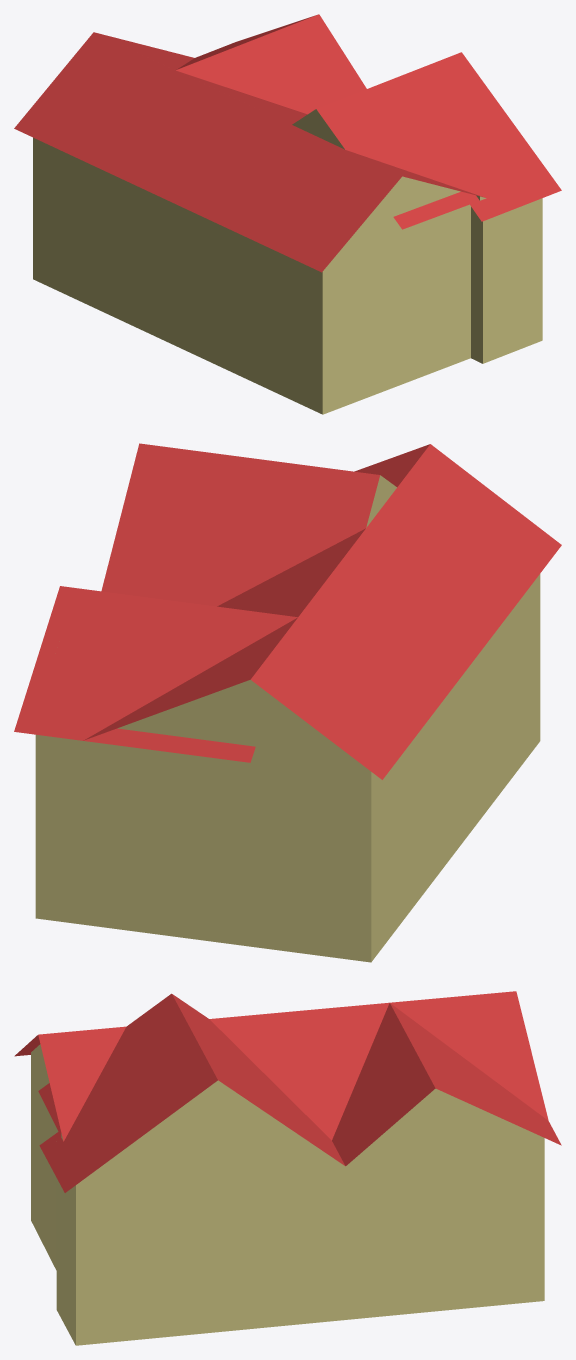
3 renders of one model, top to bottom at view 1: azimuth 30°, elevation 25°; view 2: azimuth 150°, elevation 25°; view 3: azimuth 270°, elevation 25°, orthographic. The views are drawn at different scales.
Size of the model in its own units: 22.16 by 28.48 by 14.8.
